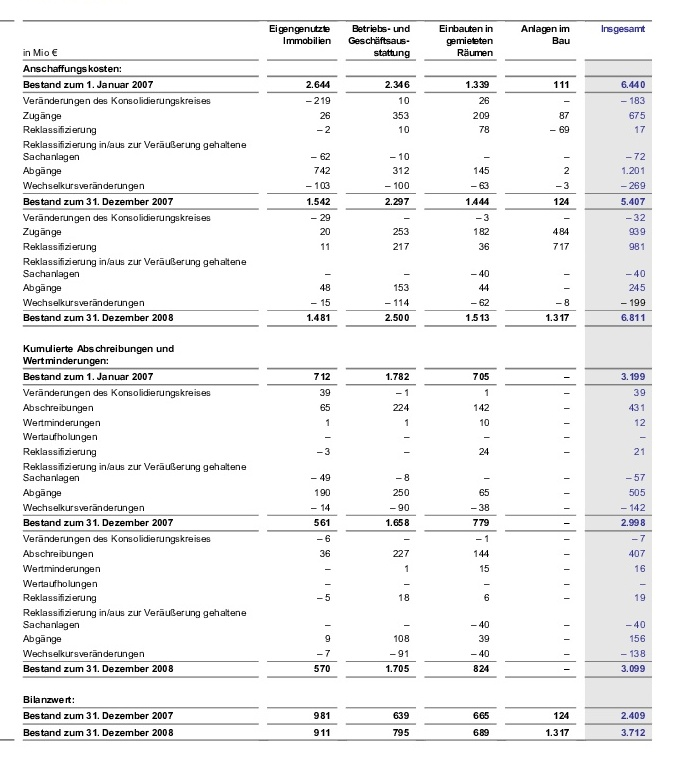table: (0, 0, 676, 764)
